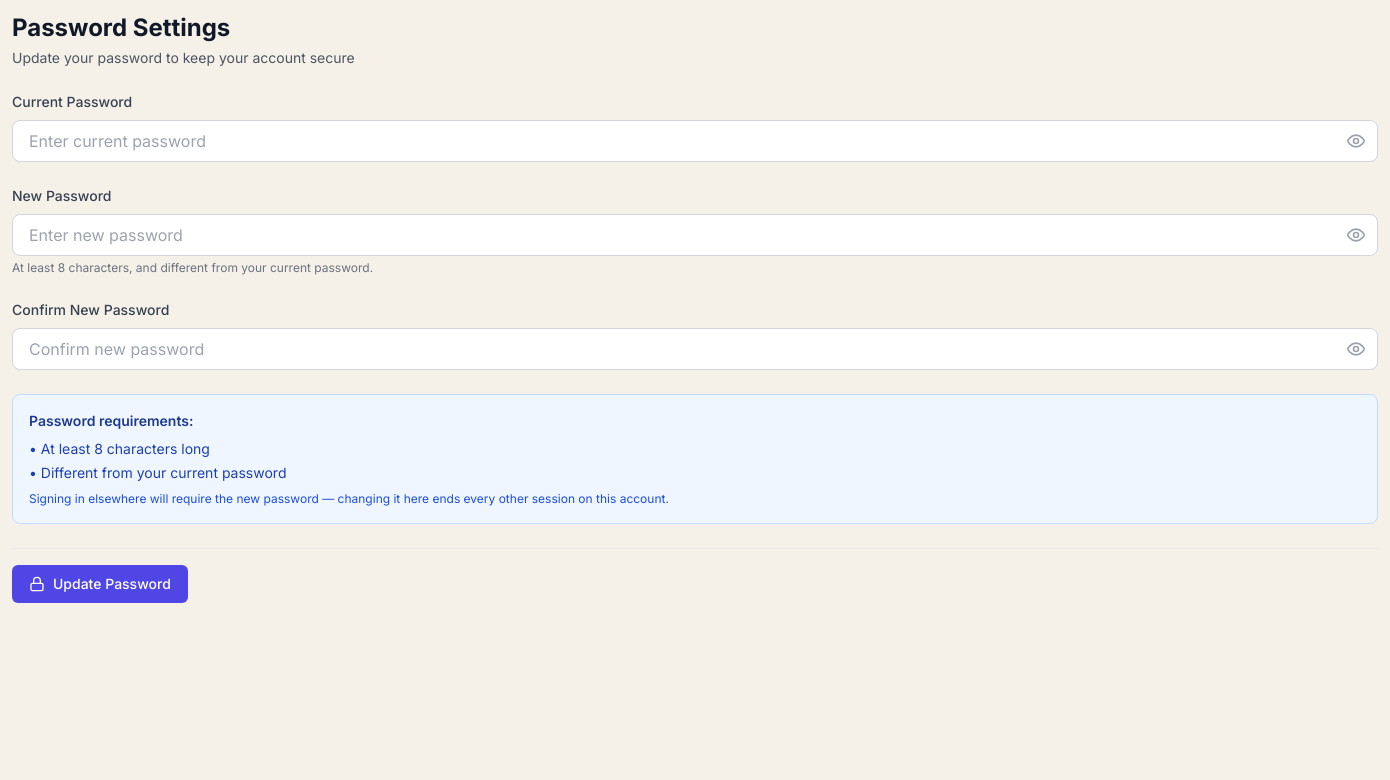
PasswordSettings — change your own password › reports success only after a real 200, and says other sessions ended
In the password field labelled "Current Password": [695, 141] box 12,120 -> 1378,162, type "old-secret-1"
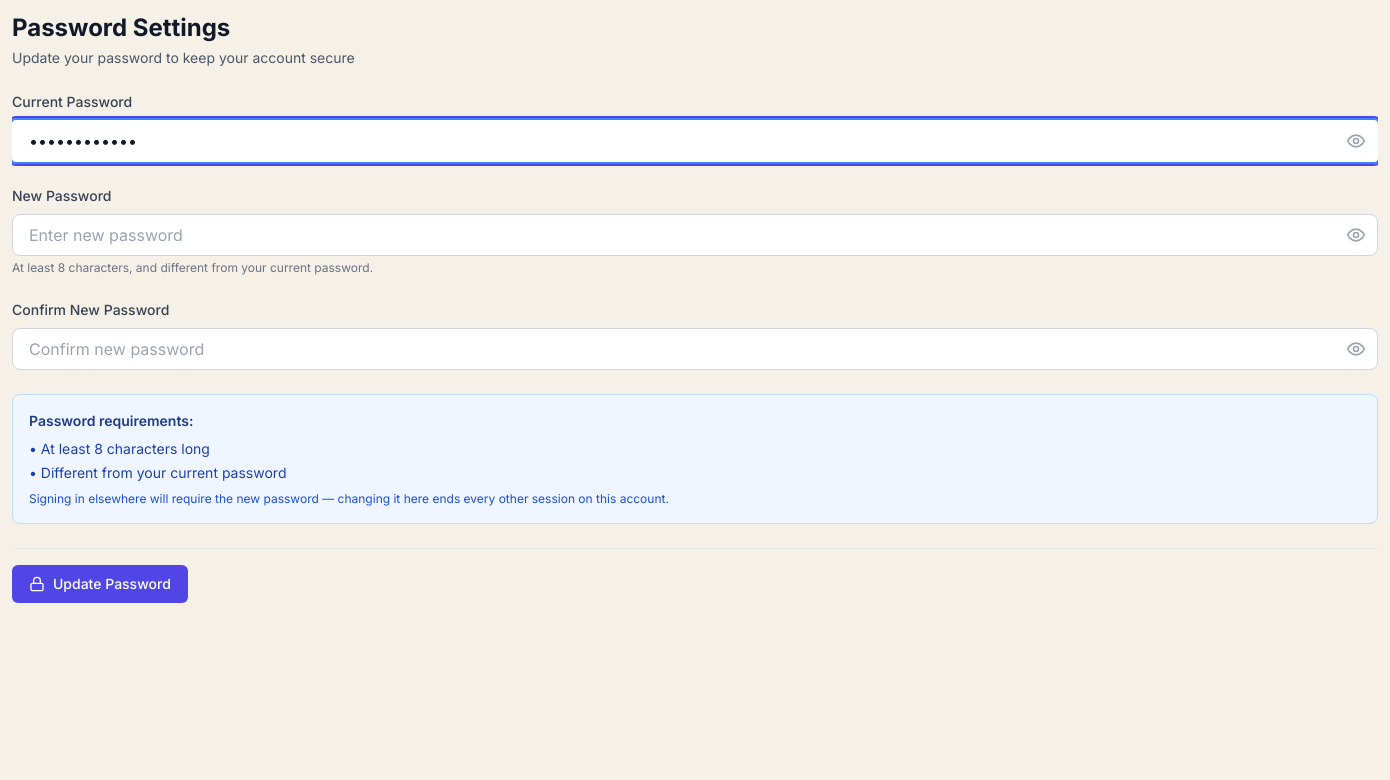
In the password field labelled "New Password": [695, 235] box 12,214 -> 1378,256, type "new-secret-2"
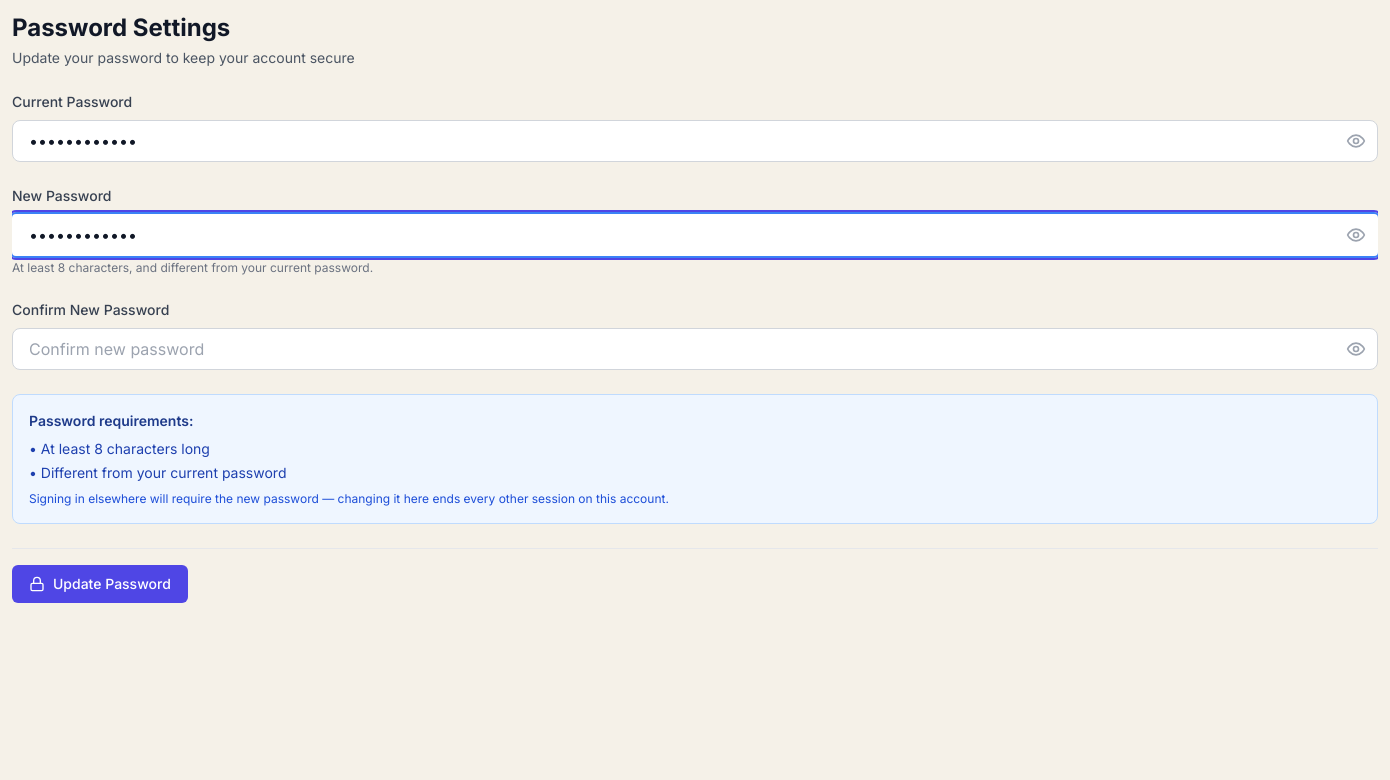
In the password field labelled "Confirm New Password": [695, 349] box 12,328 -> 1378,370, type "new-secret-2"
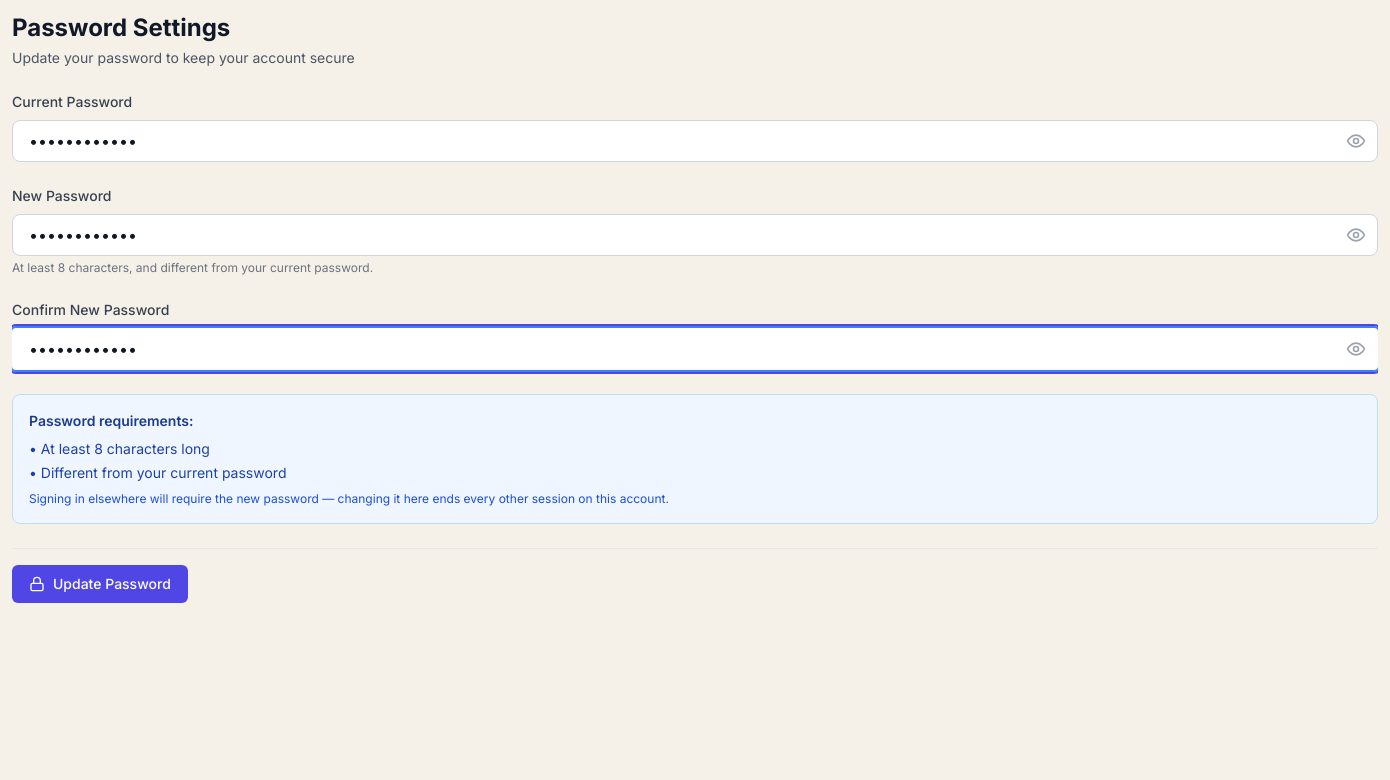
Click the button "Update Password": [100, 584] box 12,565 -> 188,603
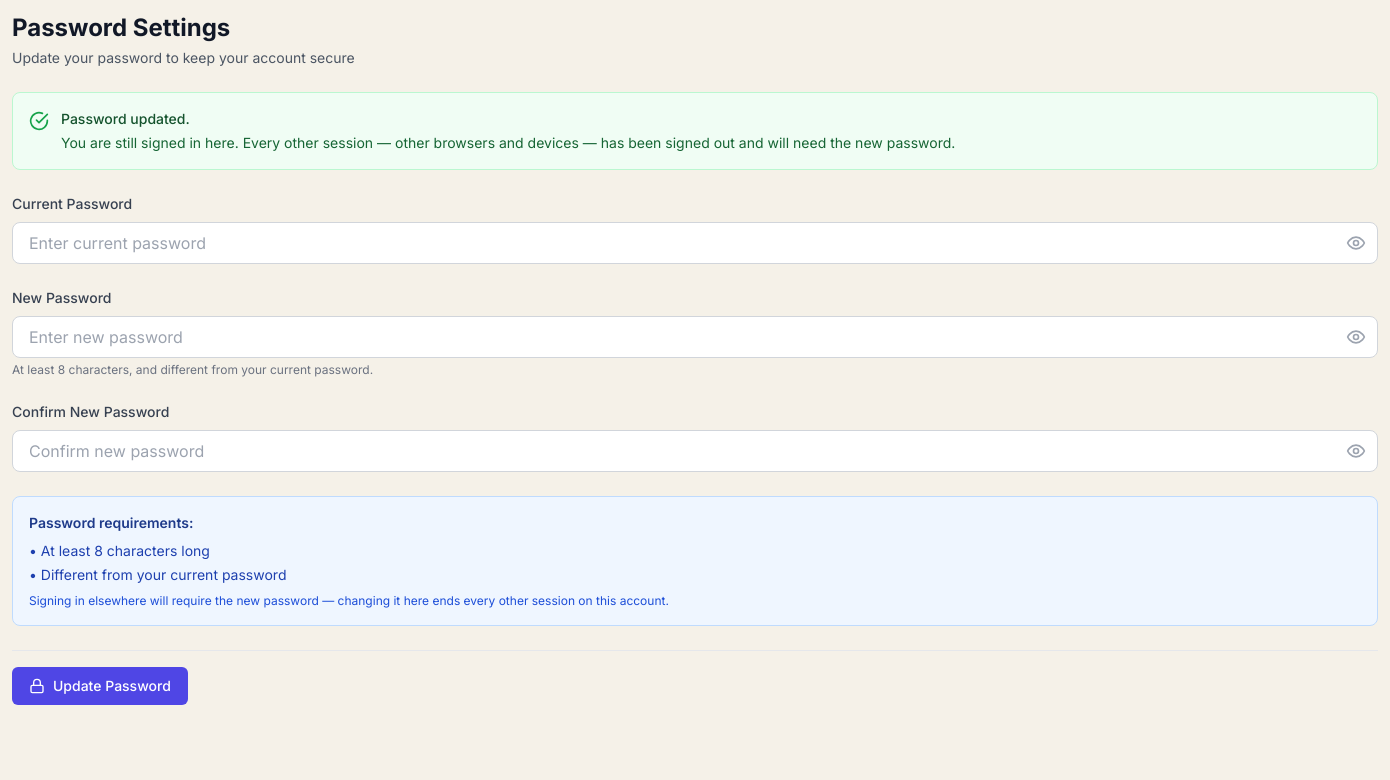
Now the message shows "Password updated", box 61,110 -> 190,127
Now the message shows "signed out", box 61,134 -> 955,151
Now the password field labelled "Current Password" is empty, box 12,222 -> 1378,264
